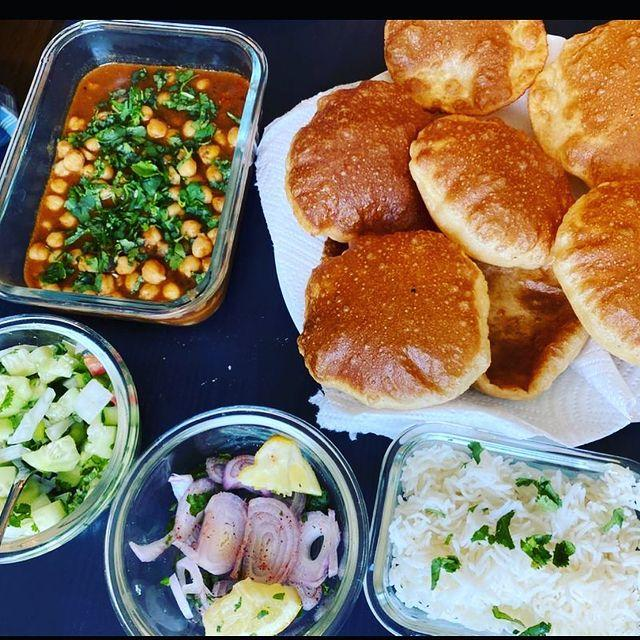Chole: (28, 118, 220, 311)
